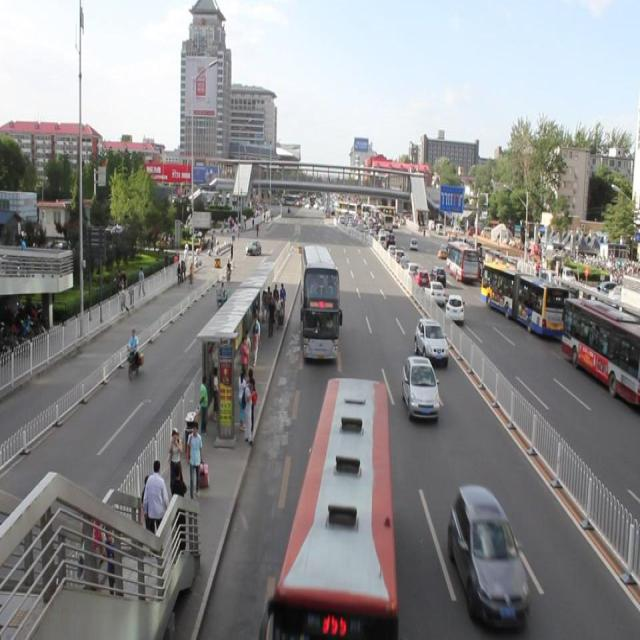car: (444, 484, 533, 628), (399, 356, 442, 424), (412, 316, 451, 368)
van: (264, 377, 401, 640), (298, 241, 344, 363)
